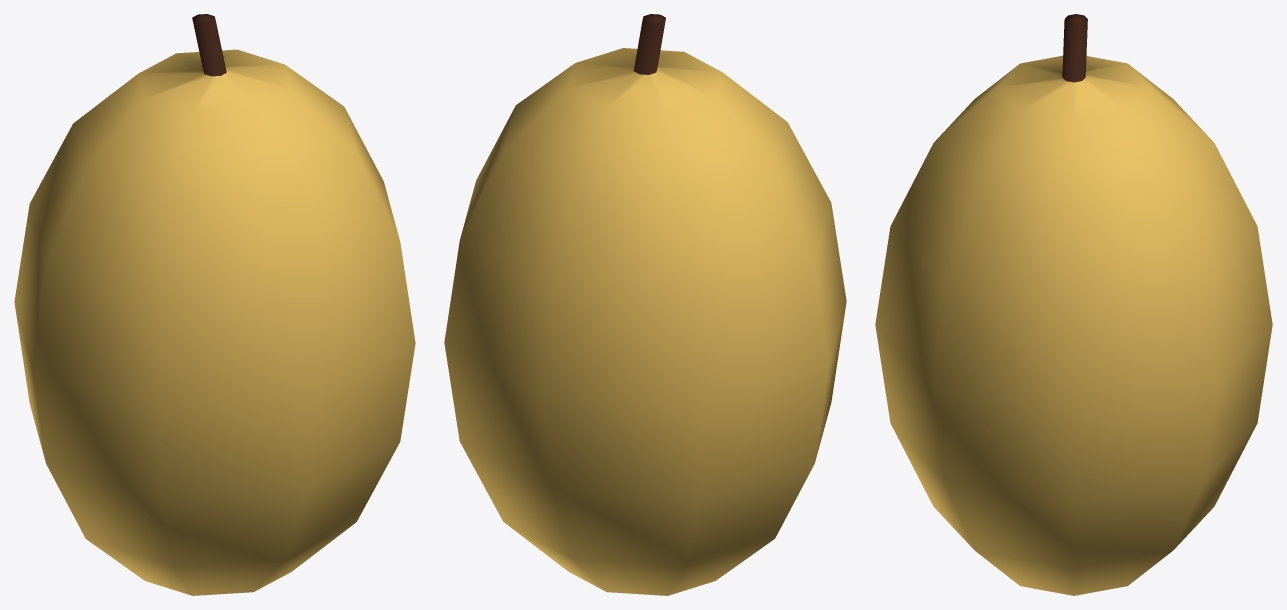
File: Prop_Lemon.fbx
3 views of the same model, side by side, from view 1: azimuth 30°, elevation 25°; view 2: azimuth 150°, elevation 25°; view 3: azimuth 270°, elevation 25° (orthographic).
Visible parts, largest first — view 1: Prop_Lemon; view 2: Prop_Lemon; view 3: Prop_Lemon.
Boxes of the visible parts, box(x1,y1,x2,y2) form: Prop_Lemon: box(14, 14, 415, 595); Prop_Lemon: box(444, 14, 846, 595); Prop_Lemon: box(875, 14, 1272, 595).
Bounding box in the file's own units: 7.3 × 10.87 × 6.98.
